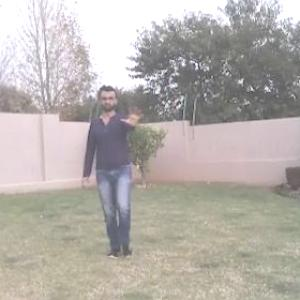follow_hand: (118, 100, 147, 128)
